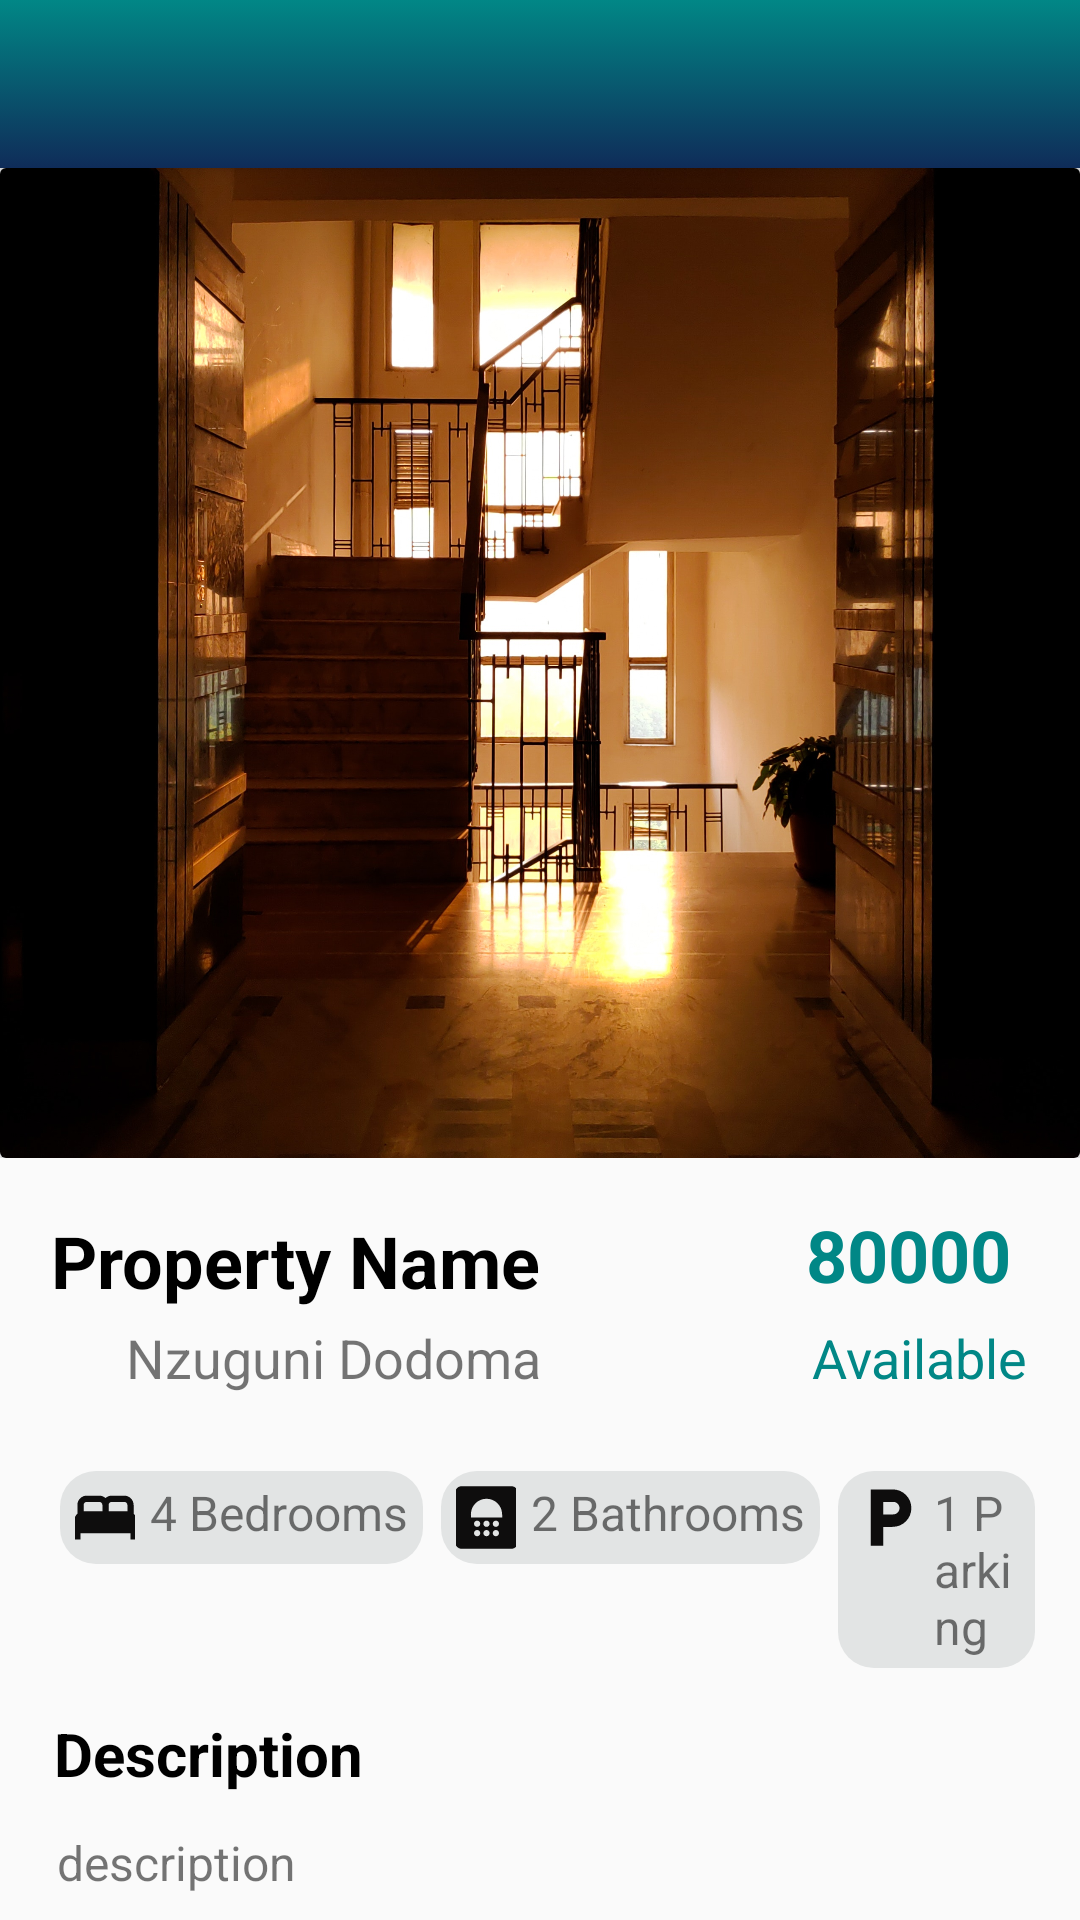

Locate icon controls on the screen. Image size 1080×1920, boxes as (x1, y1, x2, y2).
bed: (75, 1495, 135, 1540)
